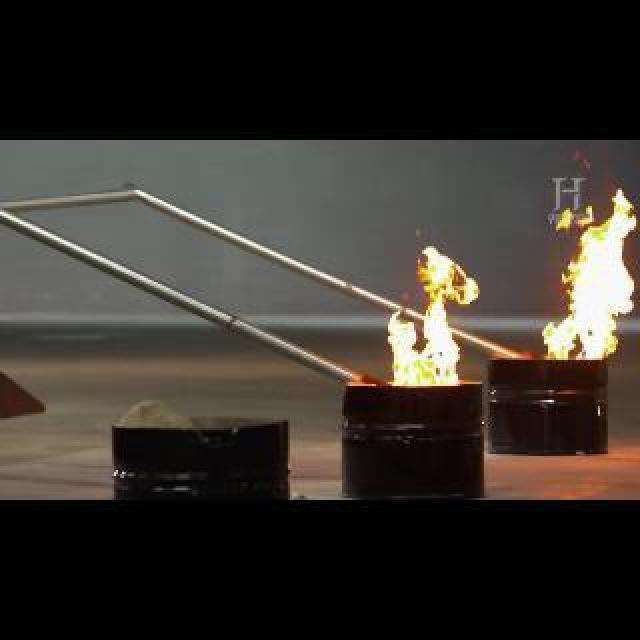fire: (530, 172, 640, 363), (360, 239, 476, 386)
